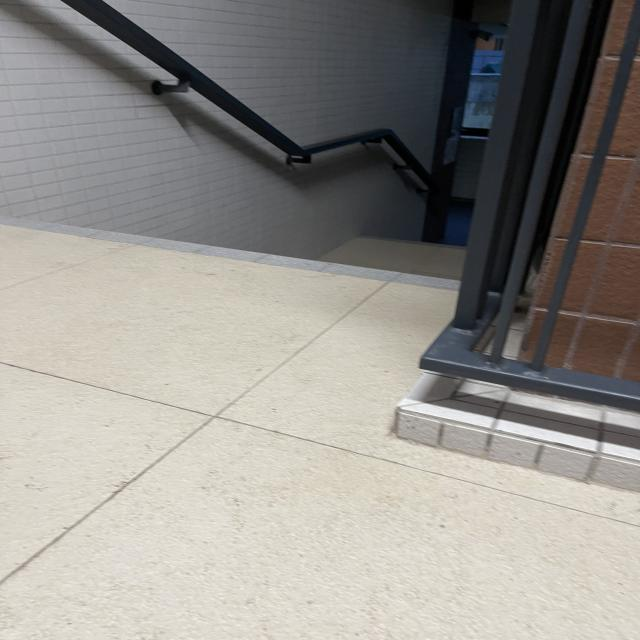Stairs: (0, 155, 498, 325)
